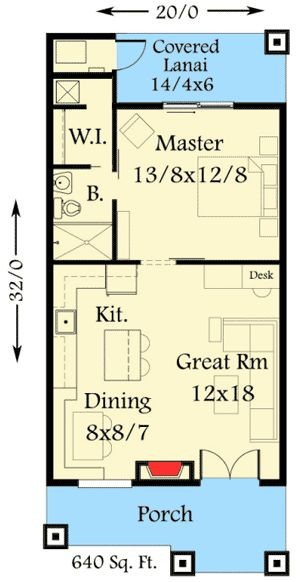door: (193, 435, 263, 482), (116, 38, 150, 77)
room: (54, 262, 281, 481), (111, 100, 291, 266), (33, 30, 123, 266)
wall: (38, 33, 56, 487), (275, 102, 290, 488), (173, 256, 279, 271), (53, 253, 143, 270), (108, 70, 122, 176), (36, 32, 116, 47), (234, 96, 286, 115), (114, 98, 166, 116), (108, 202, 122, 263), (51, 72, 116, 84), (53, 159, 97, 176), (52, 99, 91, 115), (260, 473, 287, 494), (54, 475, 84, 490)
window: (165, 97, 234, 117)
